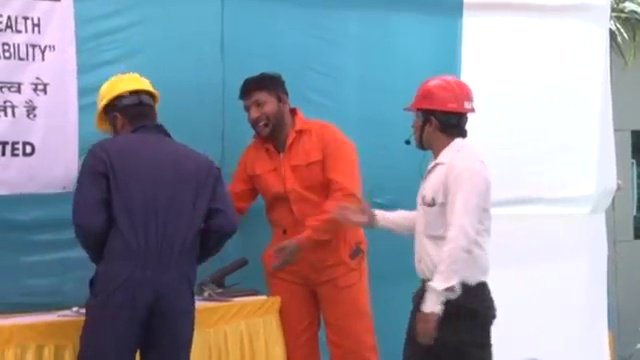helmet: (93, 68, 160, 130), (403, 74, 478, 116)
helmet_off: (237, 70, 297, 138)
helmet_on: (401, 74, 478, 158), (91, 69, 166, 143)
person: (72, 70, 237, 360), (338, 75, 499, 360), (226, 70, 378, 360)
